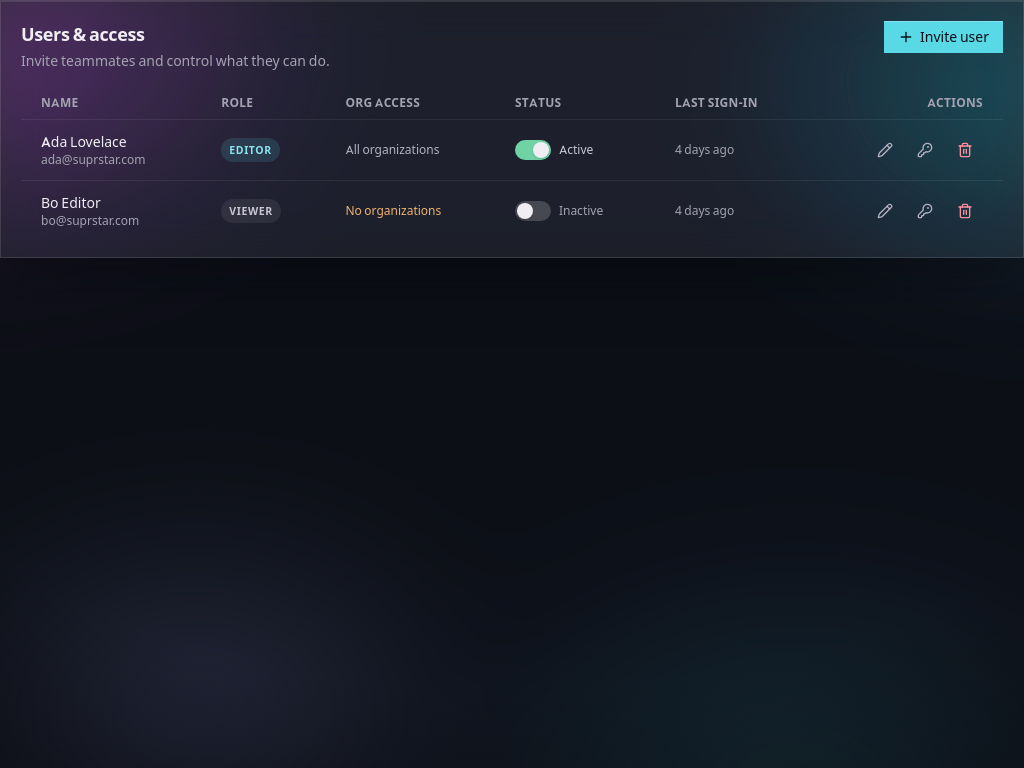
UsersCard › lists users and posts the expected body when inviting
This screenshot has width=1024, height=768.
Expected: the text "Ada Lovelace" is shown, [41,133,127,151]
Expected: the text "Bo Editor" is shown, [41,194,101,212]
Click the button with test id "invite-user-button": x=944, y=37 [884,21,1003,53]
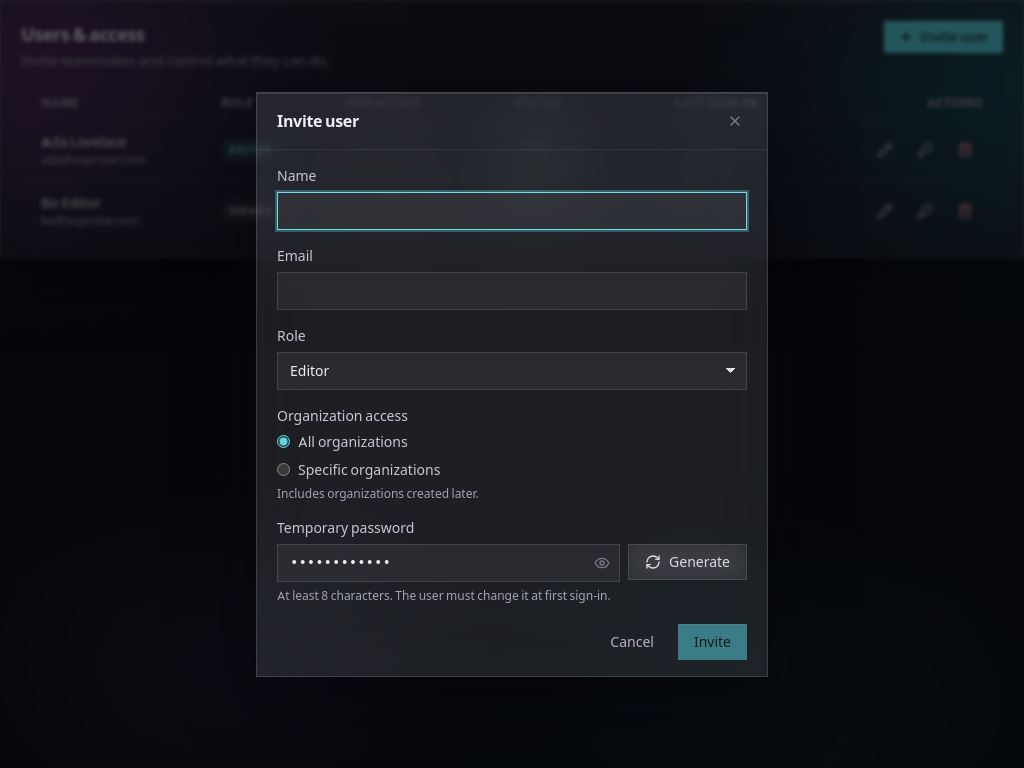
In the field labelled "Name": x=512, y=210 [277,192,747,230], type "New Person"
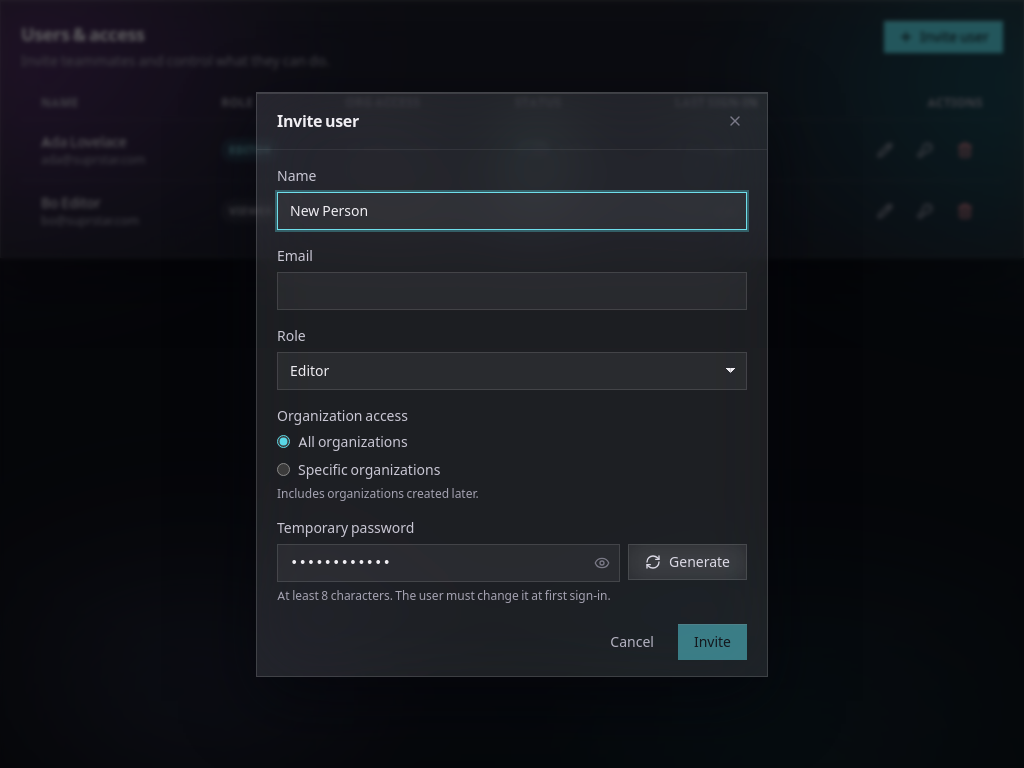
In the field labelled "Email": x=512, y=290 [277,272,747,310], type "new@suprstar.com"
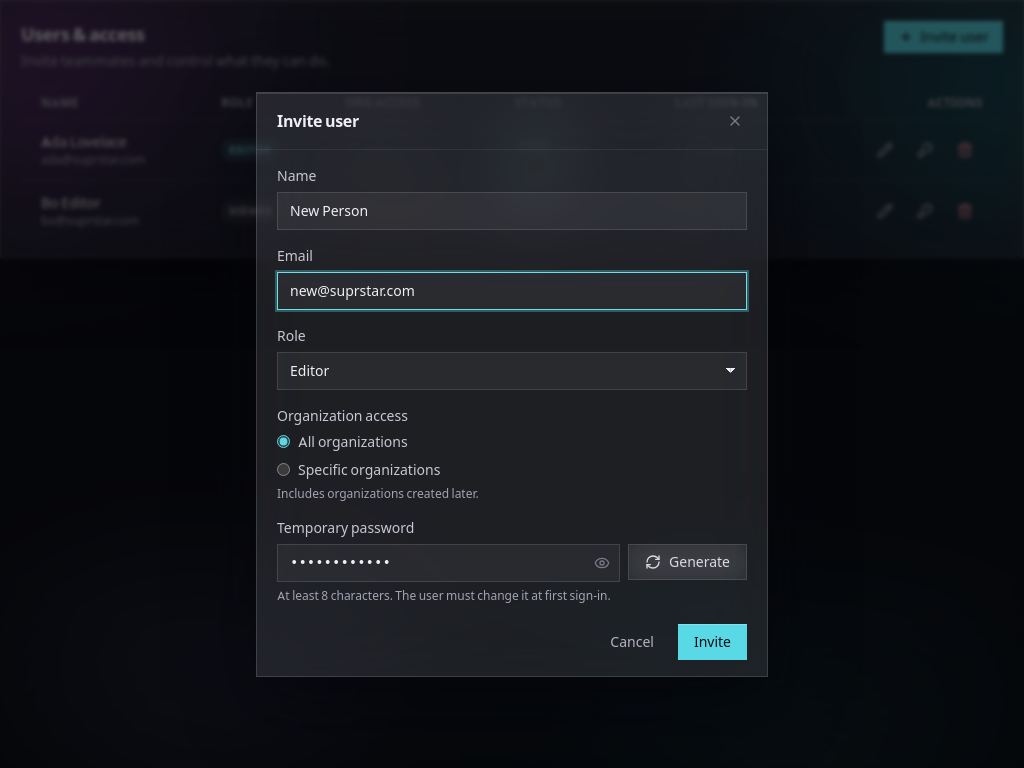
Select "Editor" in the dropdown labelled "Role": x=512, y=370 [277,352,747,390]
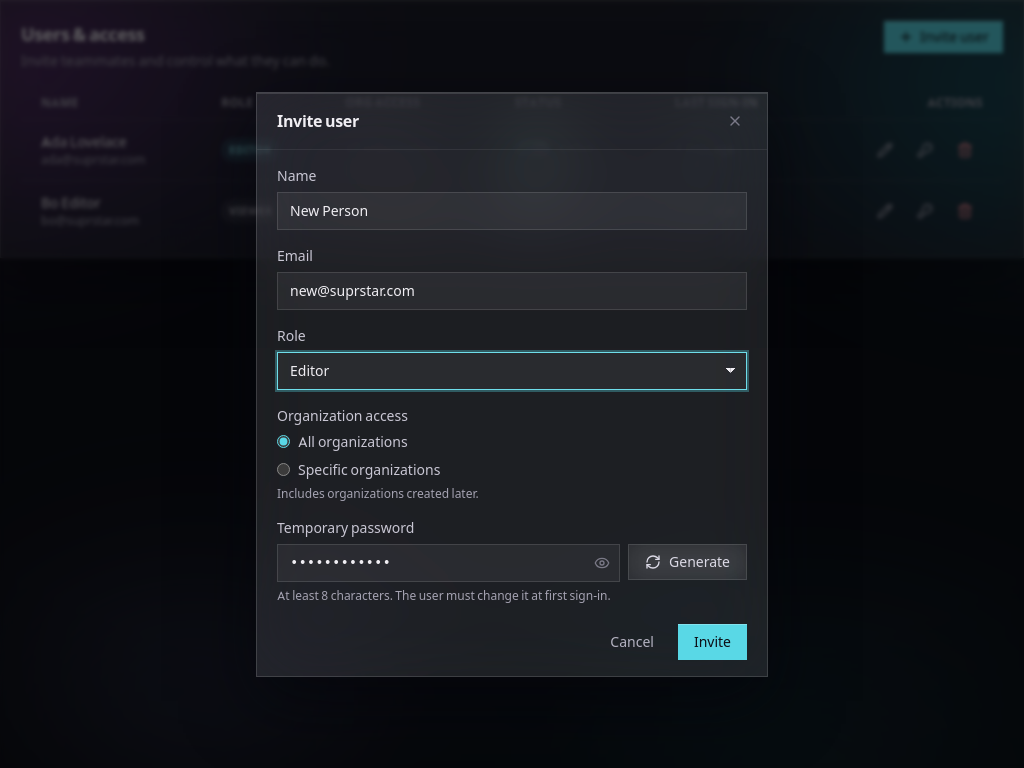
Click the button "Invite": x=712, y=642 [678,624,747,660]
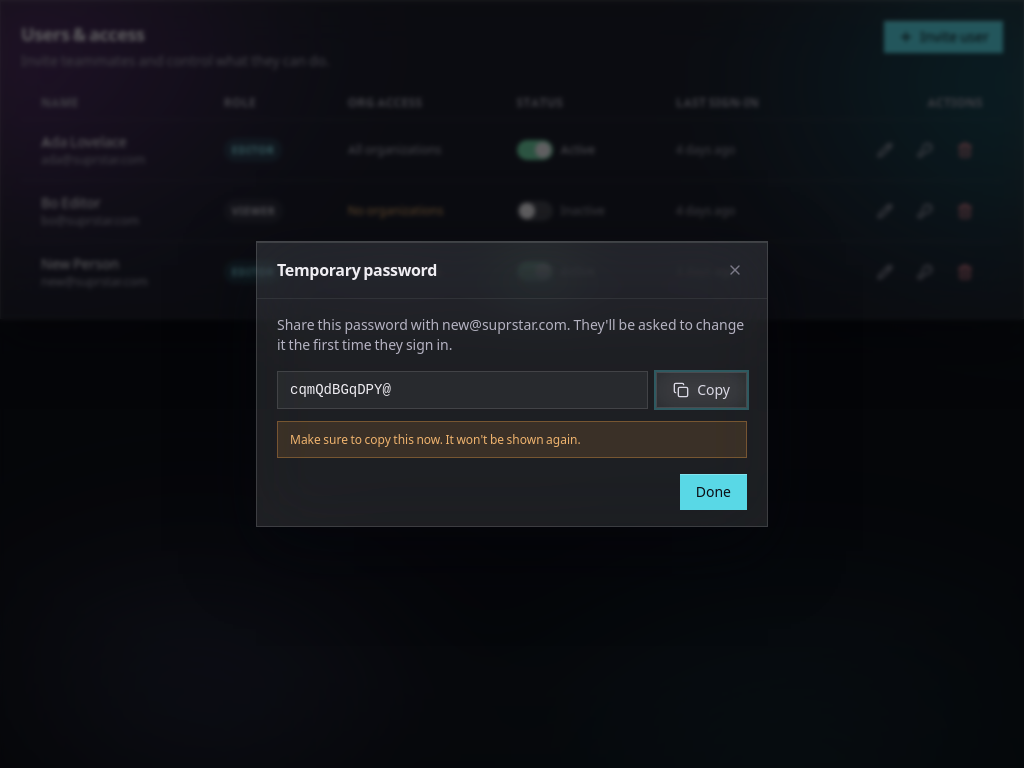
Now the text "Share this password with new@suprstar.com" is shown, box [277,315,747,355]
